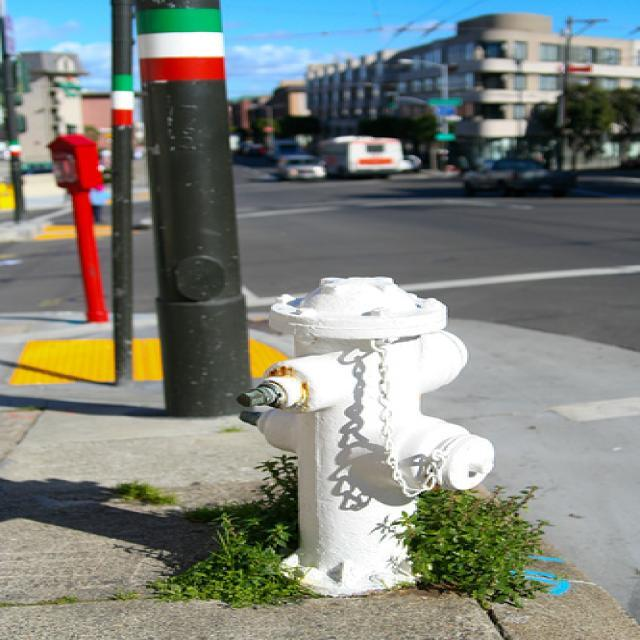fire_hydrant: (236, 272, 494, 600)
